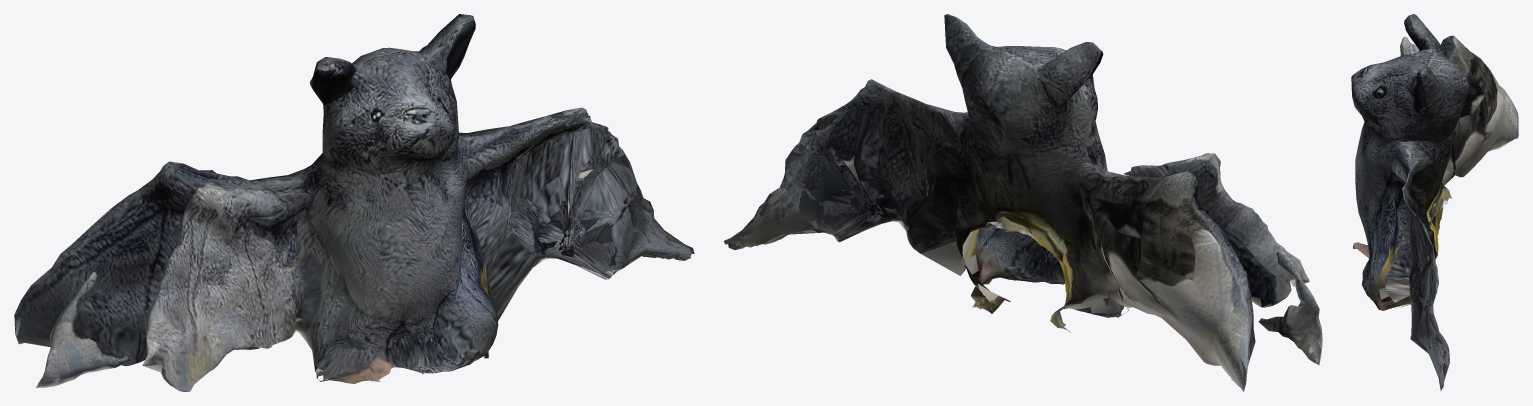
The model's file is flatti.glb.
3 renders of one model, left to right at view 1: azimuth 30°, elevation 25°; view 2: azimuth 150°, elevation 25°; view 3: azimuth 270°, elevation 25°, orthographic. The views are drawn at different scales.
Parts seen in each view (by area): view 1: 11_fledermaus.005; view 2: 11_fledermaus.005; view 3: 11_fledermaus.005.
Boxes of the visible parts, x1,y1,x2,y2 form: 11_fledermaus.005: (14,14,694,391); 11_fledermaus.005: (724,14,1322,391); 11_fledermaus.005: (1351,14,1518,390).
Bounding box in the file's own units: 1.94 × 0.902 × 0.5606.
Materials: 3 (3 with a texture image).
